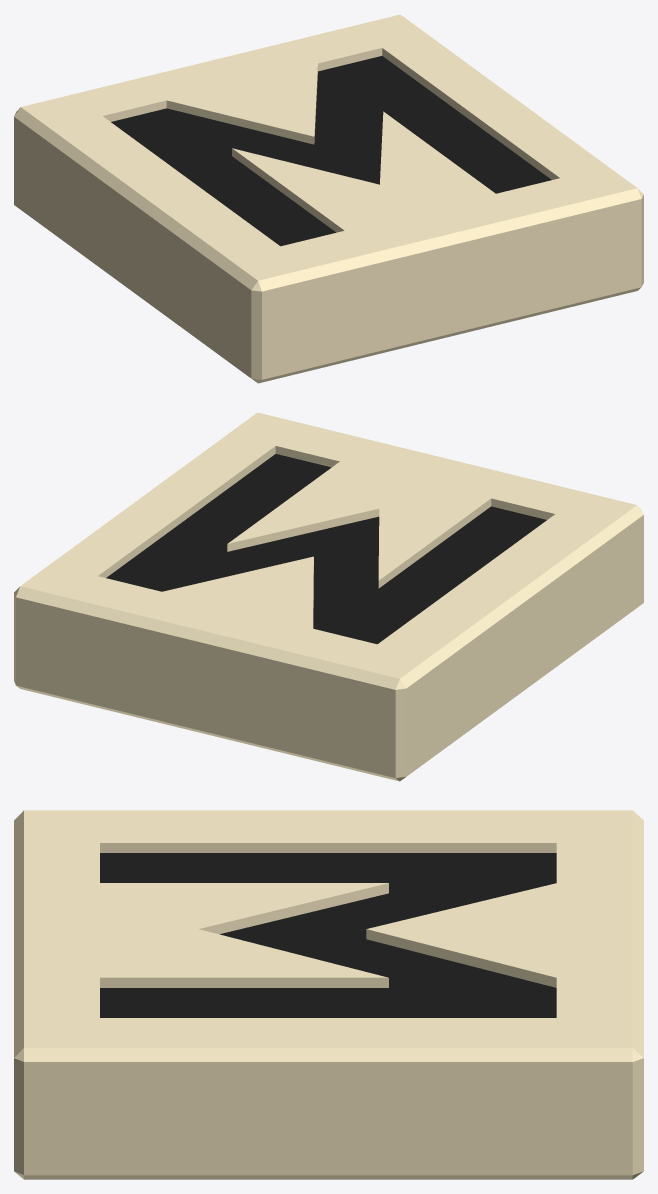
Rendered from Boardgame_Piece_Anagram_Letter_M_01.fbx.
The picture shows the model from 3 angles, top to bottom: view 1: azimuth 30°, elevation 25°; view 2: azimuth 150°, elevation 25°; view 3: azimuth 270°, elevation 25°; orthographic projection. The views are drawn at different scales.
Parts seen in each view (by area): view 1: Boardgame_Piece_Anagram_Letter_M_01; view 2: Boardgame_Piece_Anagram_Letter_M_01; view 3: Boardgame_Piece_Anagram_Letter_M_01.
Part boxes in pixels (x1,y1,x2,y2): Boardgame_Piece_Anagram_Letter_M_01: [14, 14, 643, 383]; Boardgame_Piece_Anagram_Letter_M_01: [14, 412, 643, 781]; Boardgame_Piece_Anagram_Letter_M_01: [14, 810, 643, 1179].
Size of the model in its own units: 39.37 by 9.84 by 42.65.
